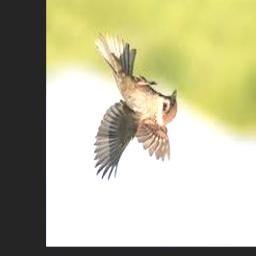Sparrow: (94, 32, 178, 181)
